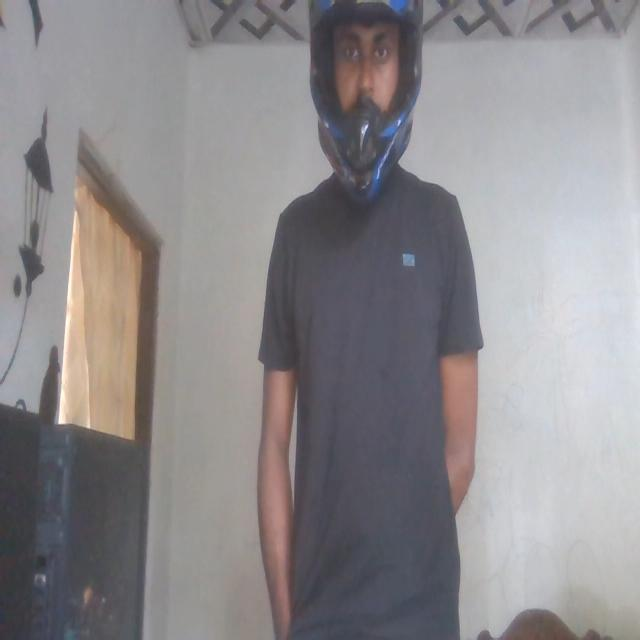Helmet_Wearer: (308, 0, 429, 186)
Person: (253, 0, 479, 640)
